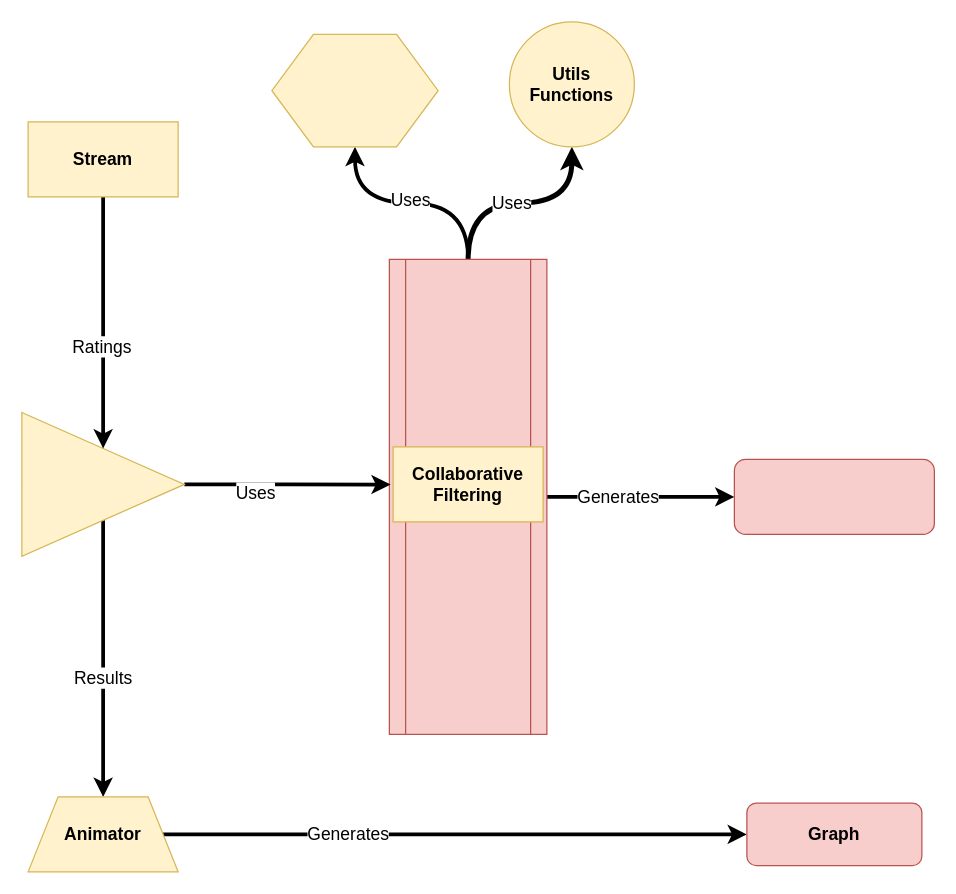
The diagram is 956 pixels wide and 894 high, and some of its shapes have lost their labels. The centre of each missing label's shape, as x and y in pixels:
Dynamic Data Structures: point (354, 90)
Evaluator: point (102, 483)
Recommendation model: point (833, 496)
